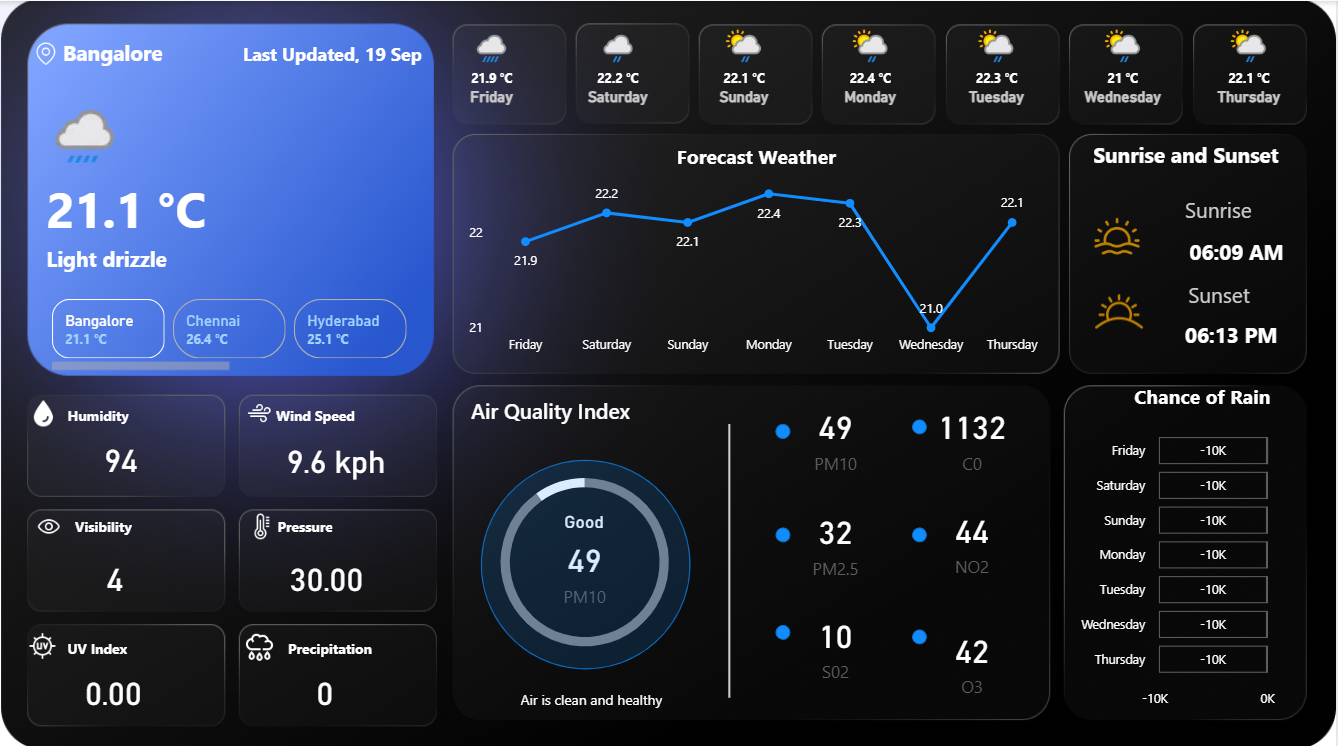

The dashboard page shown, as its layout file describes it:
{"tool":"powerbi","page":{"name":"Page 1","canvas":[1280,720],"ordinal":0},"visuals":[{"type":"advancedSlicerVisual","fields":{"Values":["Locations.location.name"]},"box":[43.9,280.1,352.8,80.3],"z":0},{"type":"shape","box":[43.9,136.3,221.1,122.7],"z":1000},{"type":"shape","box":[43.9,196.8,187.8,99.9],"z":2000},{"type":"shape","box":[60.6,0,187.8,98.4],"z":3000},{"type":"image","box":[27.3,34.8,33.3,31.8],"z":4000},{"type":"shape","box":[233.2,1.5,177.2,98.4],"z":5000},{"type":"cardVisual","fields":{"Data":["Min(Current.current.condition.icon)"]},"box":[15.8,66.7,122.9,117.6],"z":6000},{"type":"image","box":[15.8,486.1,61.4,35.1],"z":7000},{"type":"shape","box":[72,454.6,177.3,98.3],"z":8000},{"type":"image","box":[231.7,377.3,33.3,36.9],"z":9000},{"type":"shape","box":[265,347.5,177.3,98.3],"z":10000},{"type":"image","box":[21.1,377.3,40.4,36.9],"z":11000},{"type":"shape","box":[64.9,347.5,177.3,98.3],"z":12000},{"type":"image","box":[10.5,600.2,61.4,36.9],"z":13000},{"type":"shape","box":[64.9,570.4,177.3,98.3],"z":14000},{"type":"image","box":[221.1,598.5,54.4,42.1],"z":15000},{"type":"shape","box":[275.5,570.4,177.3,98.3],"z":16000},{"type":"image","box":[221.1,486.1,59.7,35.1],"z":17000},{"type":"shape","box":[266.8,454.6,177.3,98.3],"z":18000},{"type":"card","fields":{"Values":["Sum(Current.current.humidity)"]},"box":[68.4,396.6,93,84.2],"z":19000},{"type":"card","fields":{"Values":["_Measures.wind_speed"]},"box":[260.3,396.3,122.8,84.8],"z":20000},{"type":"card","fields":{"Values":["Sum(Current.current.pressure_in)"]},"box":[266.8,510.7,93,84.2],"z":21000},{"type":"card","fields":{"Values":["Sum(Current.current.precip_in)"]},"box":[265,619.5,93,84.2],"z":22000},{"type":"card","fields":{"Values":["Sum(Current.current.uv)"]},"box":[61.4,619.5,93,84.2],"z":23000},{"type":"card","fields":{"Values":["Sum(Current.current.vis_km)"]},"box":[63.2,510.7,93,84.2],"z":24000},{"type":"advancedSlicerVisual","fields":{"Values":["Forecast.Day_Name"]},"box":[410.3,15.1,851,103],"z":25000},{"type":"lineChart","title":"Forecast Weather","fields":{"Y":["Sum(Forecast.forecast.forecastday.day.avgtemp_c)"],"Category":["Forecast.Day_Name"]},"box":[443.7,136.3,561.8,210.5],"z":26000},{"type":"shape","box":[1025,98.3,223.3,98.3],"z":27000},{"type":"shape","box":[1140,200,108.3,81.7],"z":28000},{"type":"shape","box":[1136.7,278.3,108.3,81.7],"z":29000},{"type":"shape","box":[1086.7,151.7,161.7,98.3],"z":30000},{"type":"shape","box":[1056.7,238.3,223.3,85],"z":31000},{"type":"image","box":[1036.7,260,71.7,75],"z":32000},{"type":"image","box":[1043.3,198.3,56.7,53.3],"z":33000},{"type":"barChart","title":"Chance of Rain","fields":{"Y":["Sum(Forecast.forecast.forecastday.day.daily_chance_of_rain)","Current.Left_value_rain"],"Category":["Forecast.Day_Name"]},"box":[1025,366.7,255,320],"z":34000},{"type":"shape","box":[415.6,372.5,224.3,41.7],"z":35000},{"type":"card","fields":{"Values":["Sum(Current.current.air_quality.co)"]},"box":[881.7,381.7,100,73.3],"z":36000},{"type":"card","fields":{"Values":["Sum(Current.current.air_quality.no2)"]},"box":[881.7,480,100,73.3],"z":37000},{"type":"card","fields":{"Values":["Sum(Current.current.air_quality.o3)"]},"box":[881.7,595,100,73.3],"z":38000},{"type":"card","fields":{"Values":["Sum(Current.current.air_quality.pm10)"]},"box":[750,381.7,100,73.3],"z":39000},{"type":"card","fields":{"Values":["Sum(Current.current.air_quality.pm2_5)"]},"box":[750,481.7,100,73.3],"z":40000},{"type":"card","fields":{"Values":["Sum(Current.current.air_quality.so2)"]},"box":[750,581.7,100,73.3],"z":41000},{"type":"shape","box":[740,403.3,20,20],"z":42000},{"type":"shape","box":[740,501.7,20,20],"z":43000},{"type":"shape","box":[871.7,501.7,20,20],"z":44000},{"type":"shape","box":[871.7,398.3,20,20],"z":45000},{"type":"shape","box":[740,595,20,20],"z":46000},{"type":"shape","box":[871.7,600,20,20],"z":47000},{"type":"shape","box":[624.3,405.4,150.2,262.4],"z":48000},{"type":"card","fields":{"Values":["Sum(Current.current.air_quality.pm10)"]},"box":[506.7,488.9,107.8,93.3],"z":49000},{"type":"donutChart","fields":{"Y":["_Measures.Left_value_PM10","Sum(Current.current.air_quality.pm10)"]},"box":[455,413.3,211.7,250],"z":50000},{"type":"shape","box":[418,398,286,284],"z":50001},{"type":"shape","box":[454.5,648,225,40.5],"z":50002}]}

Visuals, with their boxes in screenshot pixels (x1, y1, x2, y2), scaled from the page's 1280x720 canvas onto the 1338x746 screenshot:
advancedSlicerVisual - Locations.location.name: 46/290/415/373
shape: 46/141/277/268
shape: 46/204/242/307
shape: 63/0/260/102
image: 29/36/63/69
shape: 244/2/429/104
cardVisual - Min(Current.current.condition.icon): 17/69/145/191
image: 17/504/81/540
shape: 75/471/261/573
image: 242/391/277/429
shape: 277/360/462/462
image: 22/391/64/429
shape: 68/360/253/462
image: 11/622/75/660
shape: 68/591/253/693
image: 231/620/288/664
shape: 288/591/473/693
image: 231/504/294/540
shape: 279/471/464/573
card - Sum(Current.current.humidity): 71/411/169/498
card - _Measures.wind_speed: 272/411/400/498
card - Sum(Current.current.pressure_in): 279/529/376/616
card - Sum(Current.current.precip_in): 277/642/374/729
card - Sum(Current.current.uv): 64/642/161/729
card - Sum(Current.current.vis_km): 66/529/163/616
advancedSlicerVisual - Forecast.Day_Name: 429/16/1318/122
"Forecast Weather" lineChart: 464/141/1051/359
shape: 1071/102/1305/204
shape: 1192/207/1305/292
shape: 1188/288/1301/373
shape: 1136/157/1305/259
shape: 1105/247/1337/335
image: 1084/269/1159/347
image: 1091/205/1150/261
"Chance of Rain" barChart: 1071/380/1337/711
shape: 434/386/669/429
card - Sum(Current.current.air_quality.co): 922/395/1026/471
card - Sum(Current.current.air_quality.no2): 922/497/1026/573
card - Sum(Current.current.air_quality.o3): 922/616/1026/692
card - Sum(Current.current.air_quality.pm10): 784/395/889/471
card - Sum(Current.current.air_quality.pm2_5): 784/499/889/575
card - Sum(Current.current.air_quality.so2): 784/603/889/679
shape: 774/418/794/439
shape: 774/520/794/541
shape: 911/520/932/541
shape: 911/413/932/433
shape: 774/616/794/637
shape: 911/622/932/642
shape: 653/420/810/692
card - Sum(Current.current.air_quality.pm10): 530/507/642/603
donutChart - _Measures.Left_value_PM10 x Sum(Current.current.air_quality.pm10): 476/428/697/687
shape: 437/412/736/707
shape: 475/671/710/713
